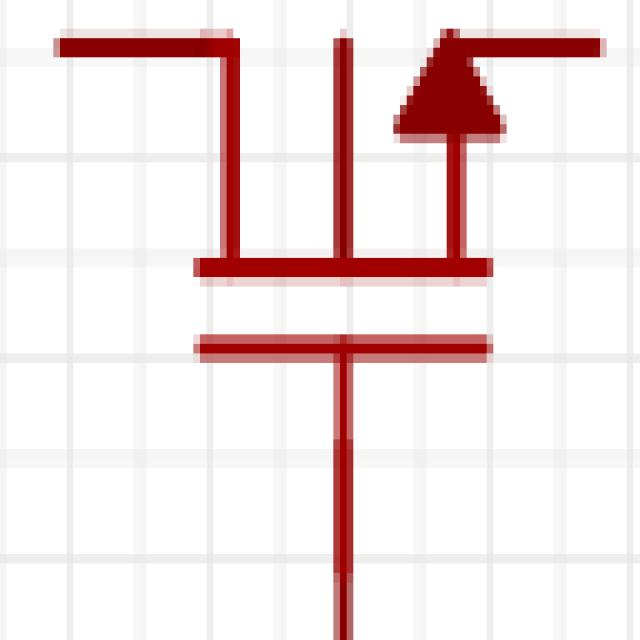nmos: (41, 14, 598, 608)
